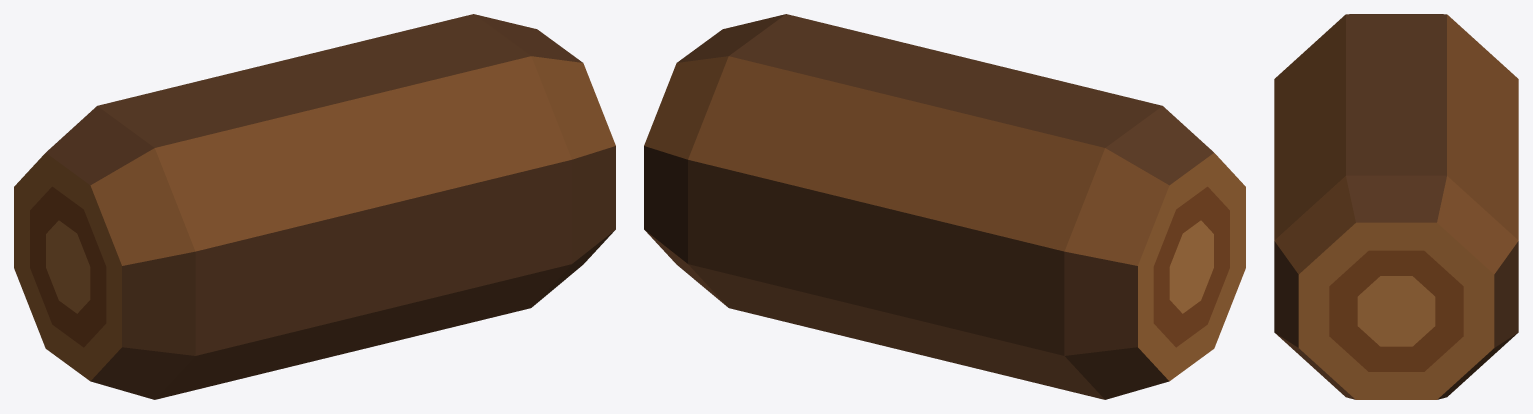
Rendered from log.obj.
3 renders of one model, left to right at view 1: azimuth 30°, elevation 25°; view 2: azimuth 150°, elevation 25°; view 3: azimuth 270°, elevation 25°, orthographic. The views are drawn at different scales.
Parts seen in each view (by area): view 1: LogPickup; view 2: LogPickup; view 3: LogPickup.
Part boxes in pixels (x1=…): LogPickup: x1=14, y1=14, x2=615, y2=399; LogPickup: x1=644, y1=14, x2=1245, y2=399; LogPickup: x1=1274, y1=14, x2=1518, y2=399.
Size of the model in its own units: 0.51 by 0.2494 by 0.2494.
